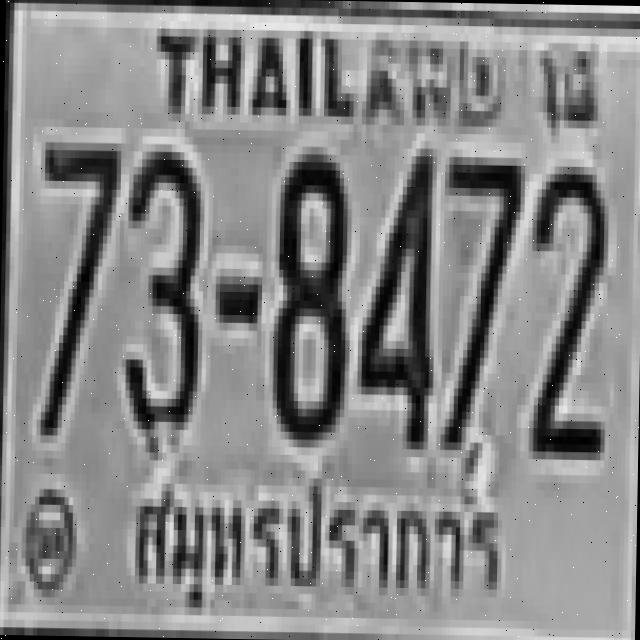2: (528, 158, 606, 452)
3: (120, 143, 201, 430)
4: (356, 140, 432, 442)
7: (36, 138, 117, 432), (440, 149, 521, 443)
8: (268, 150, 344, 436)
SamutPrakan: (121, 457, 506, 631)
